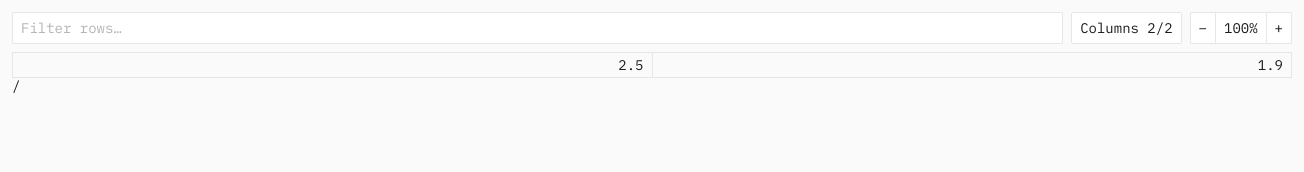
Test case: TableView › zooms the table in steps and keeps the zoom in the URL
The width and height of the screenshot is (1304, 172).
Click the button titled "Zoom in" at point(1279, 28), box [1266,12,1292,44]
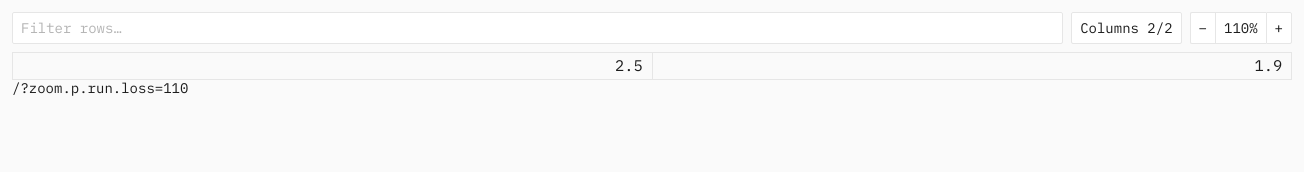
Click the button titled "Zoom in" at point(1279, 28), box [1266,12,1292,44]
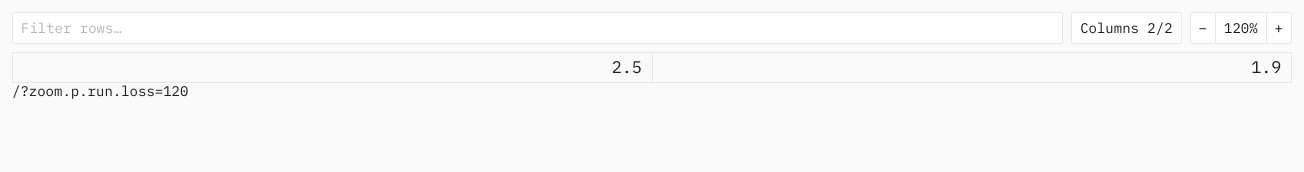
expect the button "120%" is shown: met, box [1215,12,1266,44]
expect the text with test id "loc" shows "zoom.p.run.loss=120": met, box [12,82,188,100]
Click the button titled "Zoom out" at point(1202, 28), box [1190,12,1215,44]
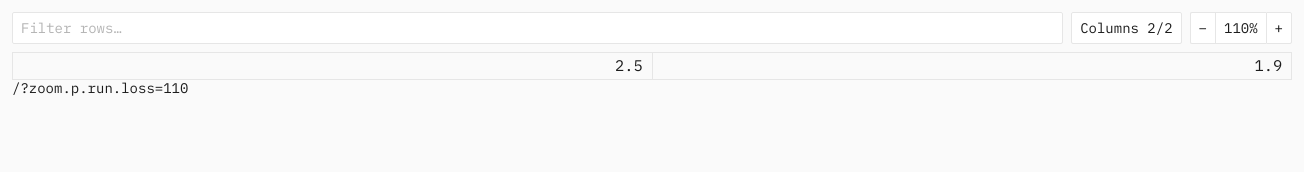
Click the button titled "Zoom out" at point(1202, 28), box [1190,12,1215,44]
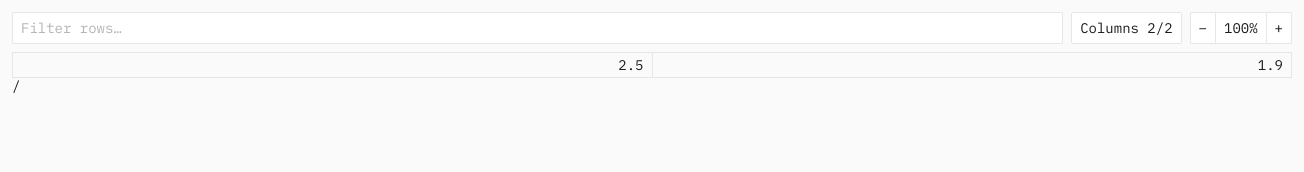
expect the text with test id "loc" no longer shows "zoom.": met
